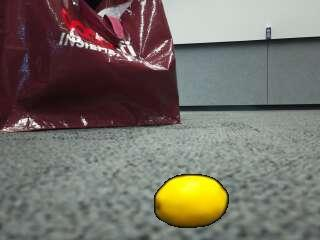lemon: (155, 175, 228, 227)
